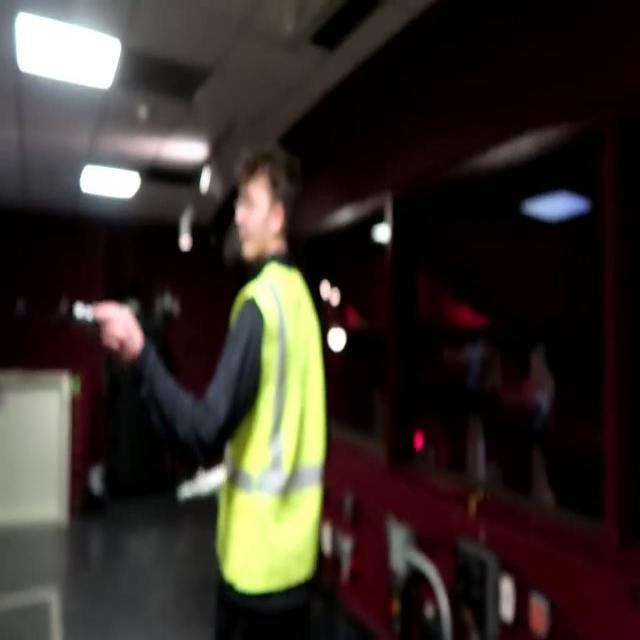reflective_jacket: (198, 255, 347, 609)
